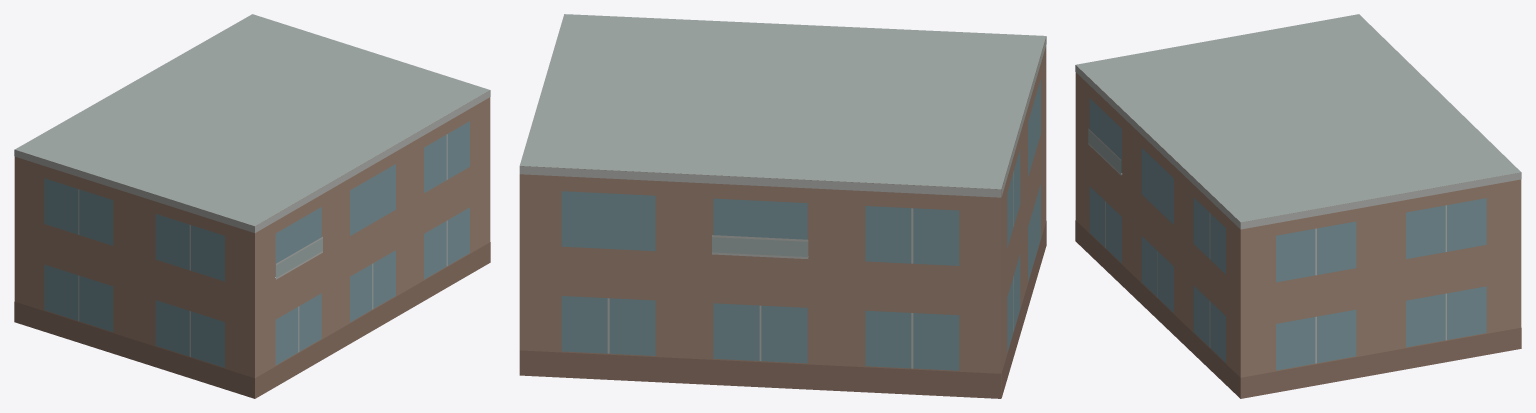
File: survey-upis-32852056.glb
3 renders of one model, left to right at view 1: azimuth 30°, elevation 25°; view 2: azimuth 150°, elevation 25°; view 3: azimuth 270°, elevation 25°, orthographic. The views are drawn at different scales.
Visible parts, largest first — view 1: survey-upis-32852056.tmp; view 2: survey-upis-32852056.tmp; view 3: survey-upis-32852056.tmp.
Part boxes in pixels (bbox=[...]): survey-upis-32852056.tmp: bbox=[14, 14, 490, 398]; survey-upis-32852056.tmp: bbox=[519, 14, 1046, 398]; survey-upis-32852056.tmp: bbox=[1075, 14, 1521, 398].
Bounding box in the file's own units: 15.47 × 6.1 × 13.99.
